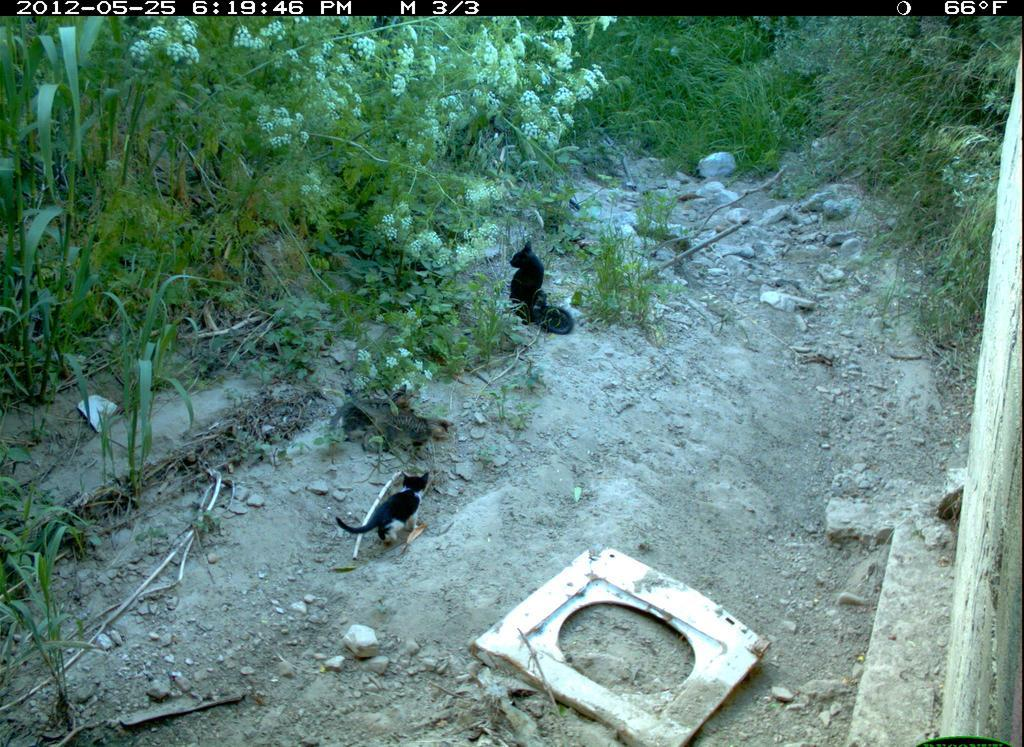cat: (334, 470, 433, 552), (344, 383, 451, 452), (506, 238, 577, 338), (326, 383, 419, 445)
